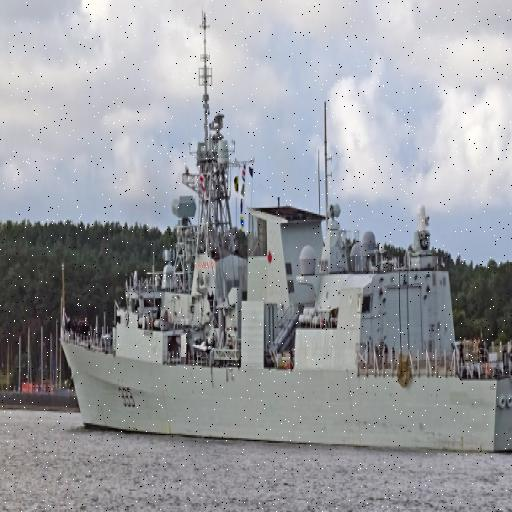Fragata: (61, 1, 512, 466)
